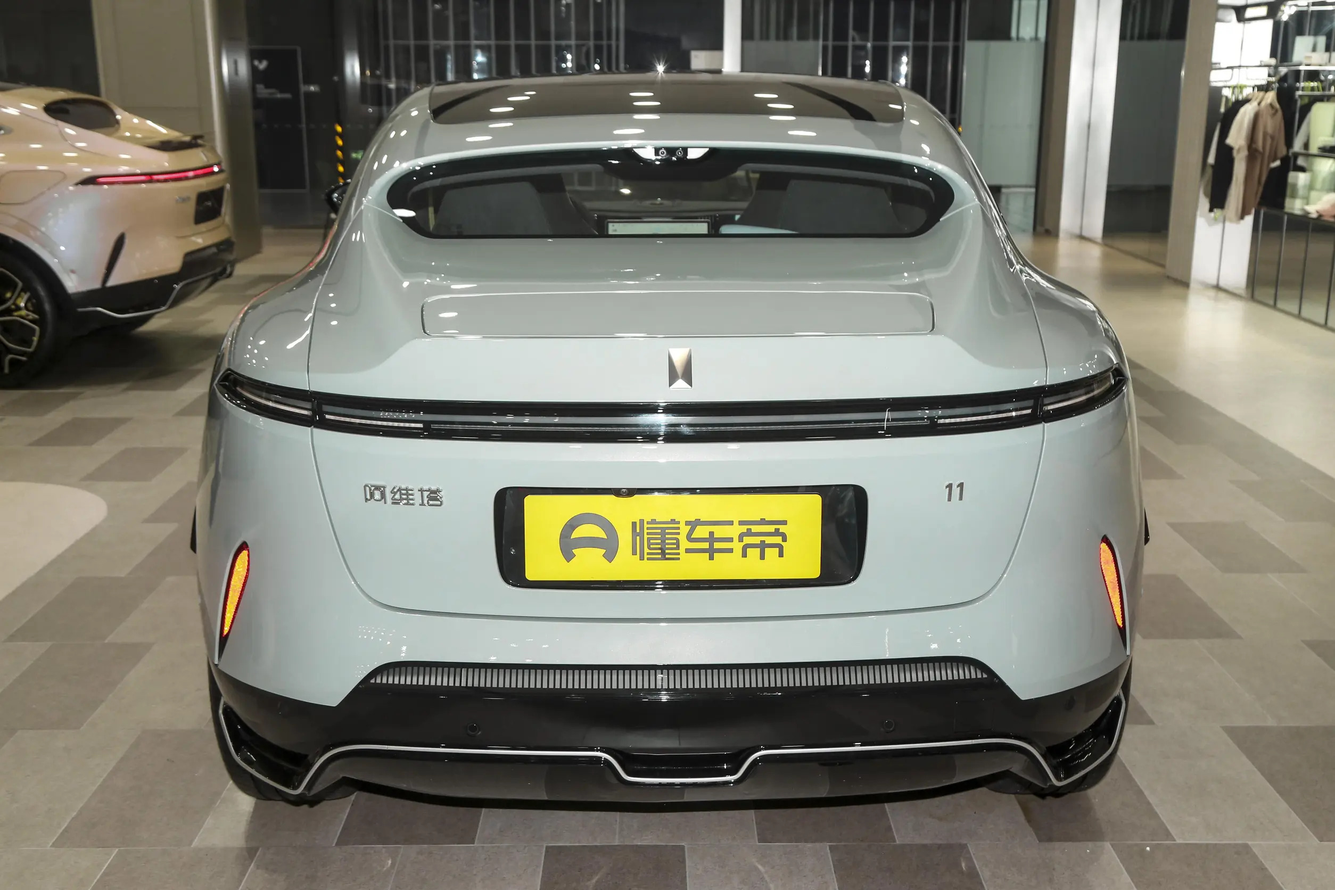AVATR: (668, 348, 693, 389)
